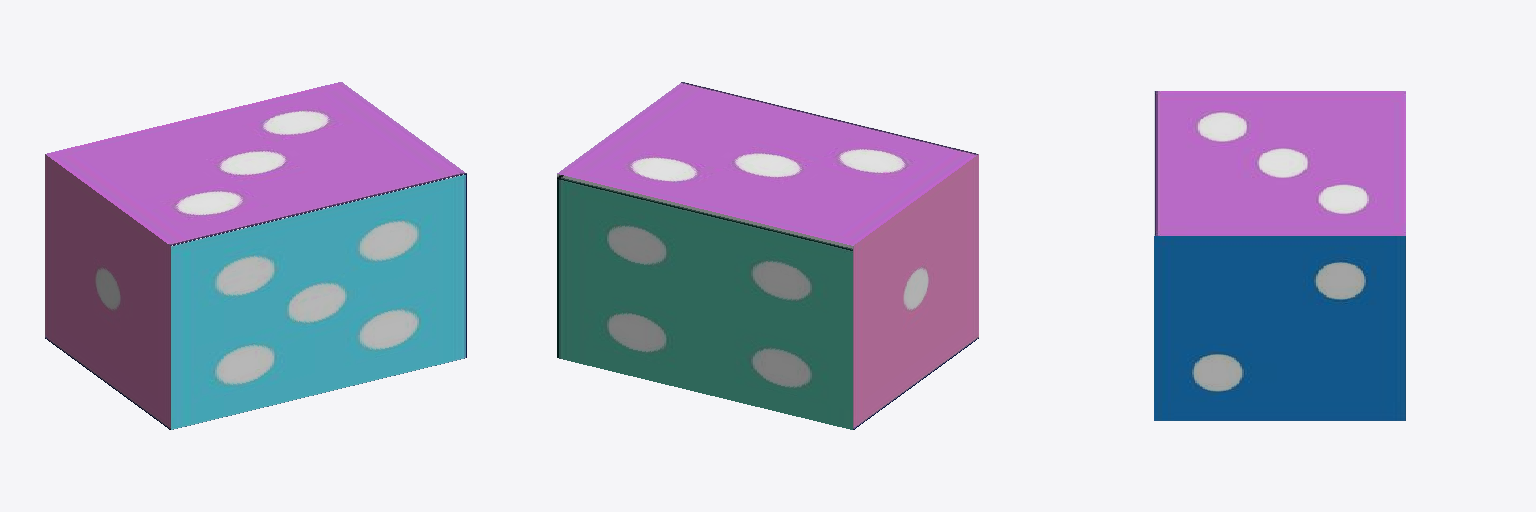
3 renders of one model, left to right at view 1: azimuth 30°, elevation 25°; view 2: azimuth 150°, elevation 25°; view 3: azimuth 270°, elevation 25°, orthographic.
Visible parts, largest first — view 1: Box28964; view 2: Box28964; view 3: Box28964.
Boxes of the visible parts, <box> form: Box28964: <box>45,82,466,429</box>; Box28964: <box>557,82,978,429</box>; Box28964: <box>1154,91,1405,420</box>.
Bounding box in the file's own units: 0.3286 × 0.1952 × 0.2415.
Materials: 1 (1 with a texture image).